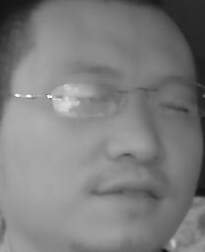glass: (51, 78, 122, 121)
mouth: (91, 174, 166, 213)
